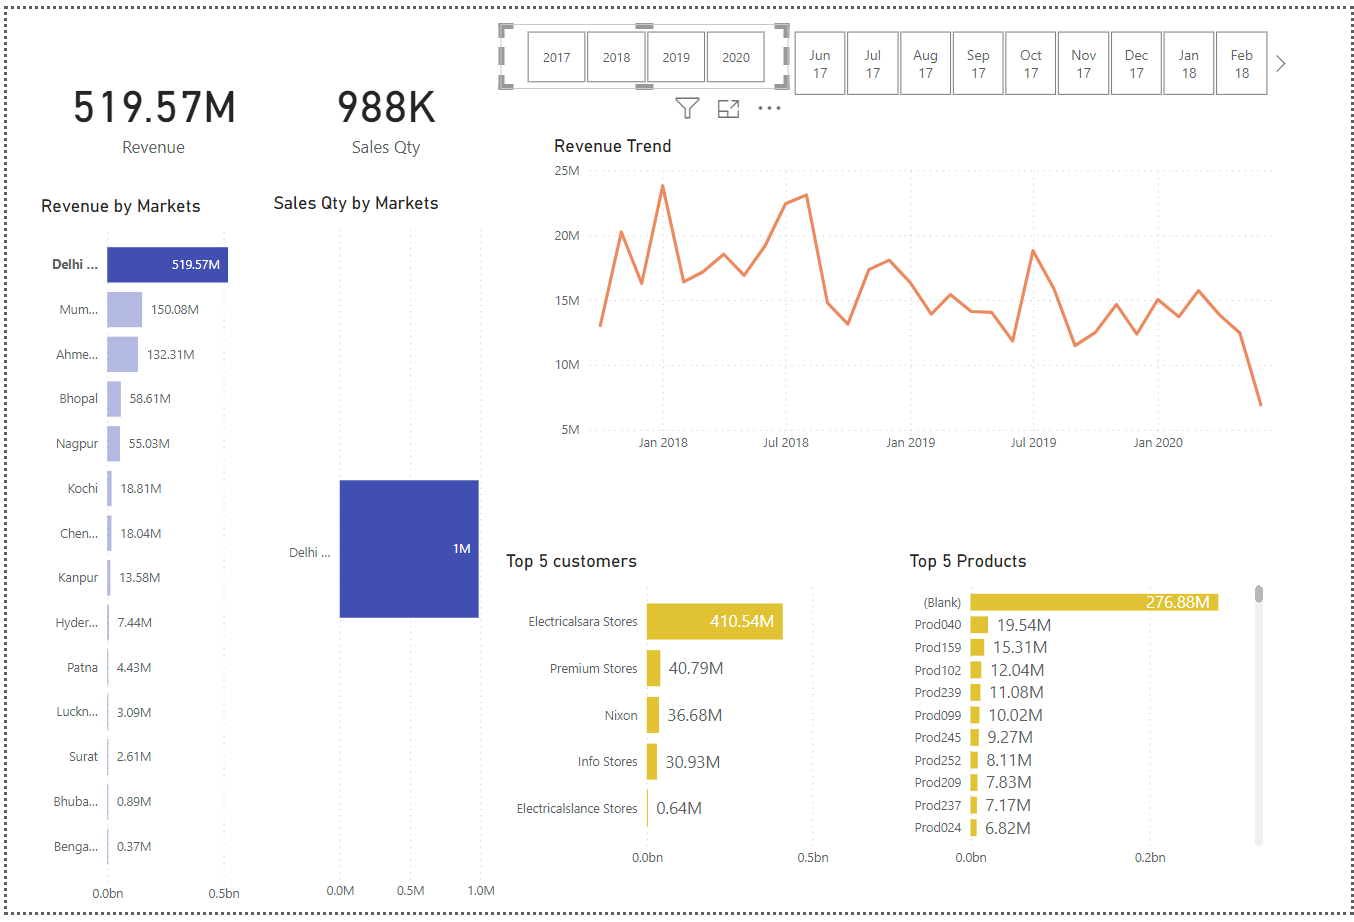

What the dashboard file says about the page in this screenshot:
{"tool":"powerbi","page":{"name":"Page 1","canvas":[1280,860],"ordinal":0},"visuals":[{"type":"card","fields":{"Values":["BaseMeasures.Revenue"]},"box":[28.8,24.2,221.1,148.4],"z":0},{"type":"card","fields":{"Values":["BaseMeasures.Sales Qty"]},"box":[249.8,24.2,221.1,148.4],"z":1000},{"type":"barChart","title":"Revenue by Markets","fields":{"Y":["BaseMeasures.Revenue"],"Category":["sales markets.markets_name"]},"box":[27.6,176.7,220.9,683.3],"z":2000},{"type":"barChart","title":"Sales Qty by Markets","fields":{"Y":["BaseMeasures.Sales Qty"],"Category":["sales markets.markets_name"]},"box":[248.5,173.9,220.9,683.3],"z":3000},{"type":"slicer","fields":{"Values":["sales date.year"]},"box":[469.4,13.6,275.6,62.1],"z":4000},{"type":"slicer","fields":{"Values":["sales date.cy_date"]},"box":[723.8,13.6,499.7,74.2],"z":5000},{"type":"barChart","title":"Top 5 customers","fields":{"Y":["BaseMeasures.Revenue"],"Category":["sales customers.custmer_name"]},"box":[469.4,516.3,348.3,310.4],"z":5001},{"type":"barChart","title":"Top 5 Products","fields":{"Y":["BaseMeasures.Revenue"],"Category":["sales products.product_code"]},"box":[854,516.3,346.8,310.4],"z":5002},{"type":"lineChart","title":"Revenue Trend","fields":{"Y":["BaseMeasures.Revenue"],"Category":["sales date.cy_date.Variation.Date Hierarchy.Year","sales date.cy_date.Variation.Date Hierarchy.Quarter","sales date.cy_date.Variation.Date Hierarchy.Month","sales date.cy_date.Variation.Date Hierarchy.Day"]},"box":[516.3,119.6,707.1,310.4],"z":5003}]}

Visuals, with their boxes in screenshot pixels (x1, y1, x2, y2), scaled from the page's 1280x860 canvas onto the 1354x922 screenshot:
card - BaseMeasures.Revenue: [30,26,264,185]
card - BaseMeasures.Sales Qty: [264,26,498,185]
"Revenue by Markets" barChart: [29,189,263,921]
"Sales Qty by Markets" barChart: [263,186,497,919]
slicer - sales date.year: [497,15,788,81]
slicer - sales date.cy_date: [766,15,1294,94]
"Top 5 customers" barChart: [497,554,865,886]
"Top 5 Products" barChart: [903,554,1270,886]
"Revenue Trend" lineChart: [546,128,1294,461]
